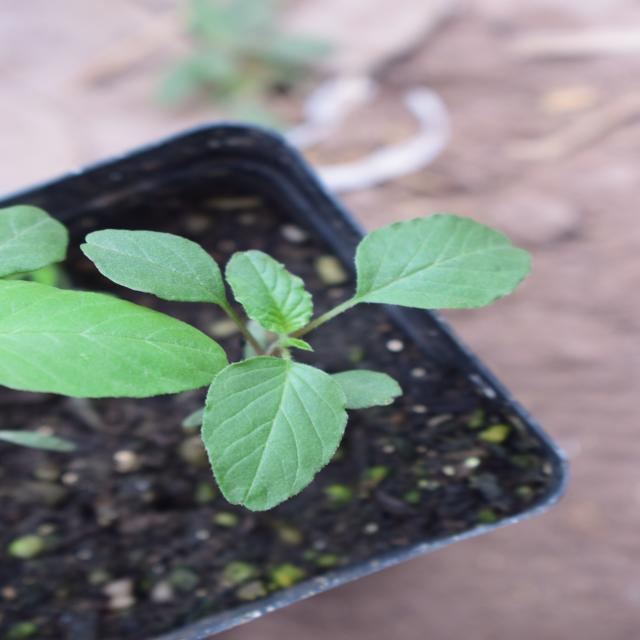pigweed: (133, 163, 445, 537)
